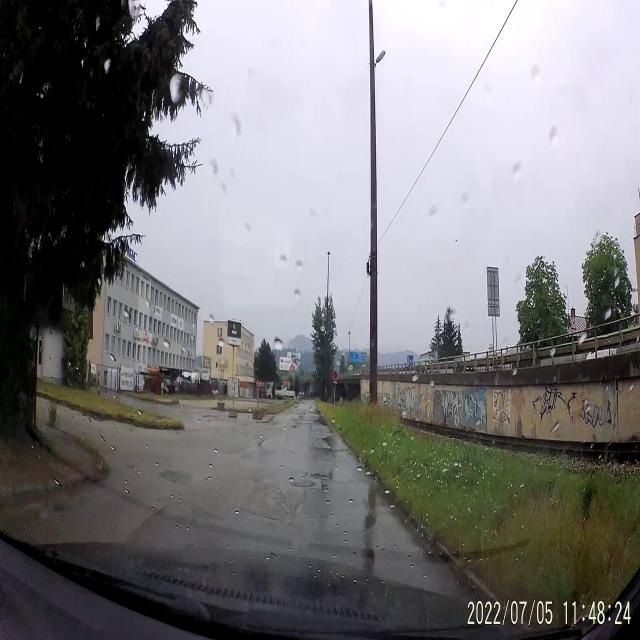Manhole: (287, 468, 318, 492)
